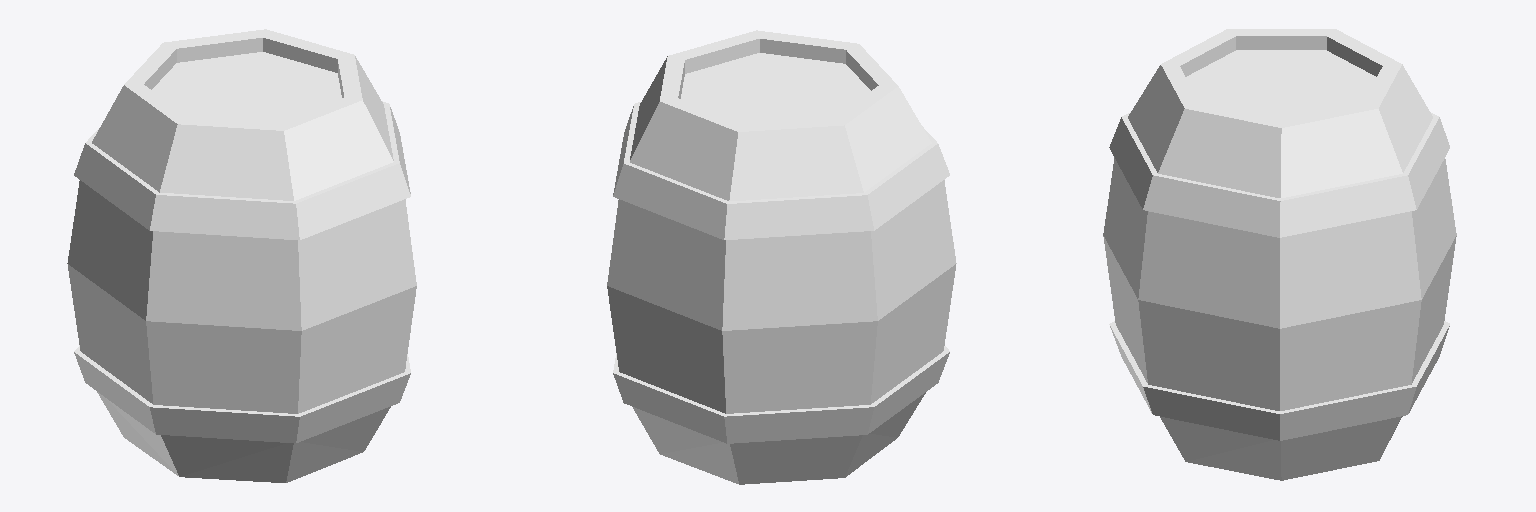
The model's file is Barrel02.obj.
3 views of the same model, side by side, from view 1: azimuth 30°, elevation 25°; view 2: azimuth 150°, elevation 25°; view 3: azimuth 270°, elevation 25° (orthographic).
Parts seen in each view (by area): view 1: Barrel.lwo; view 2: Barrel.lwo; view 3: Barrel.lwo.
Part boxes in pixels (x1,y1,x2,y2): Barrel.lwo: (67,29,416,482); Barrel.lwo: (607,30,956,484); Barrel.lwo: (1103,29,1456,480).
Size of the model in its own units: 0.0337 by 0.0381 by 0.0346.